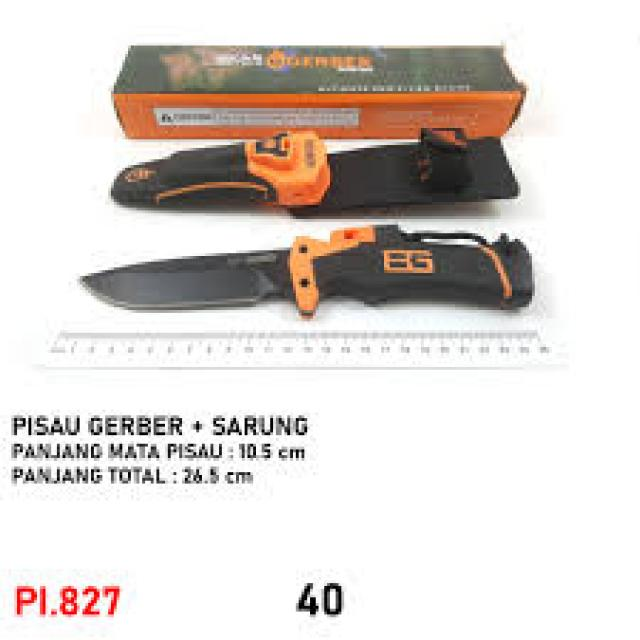weapon: (65, 213, 557, 359)
